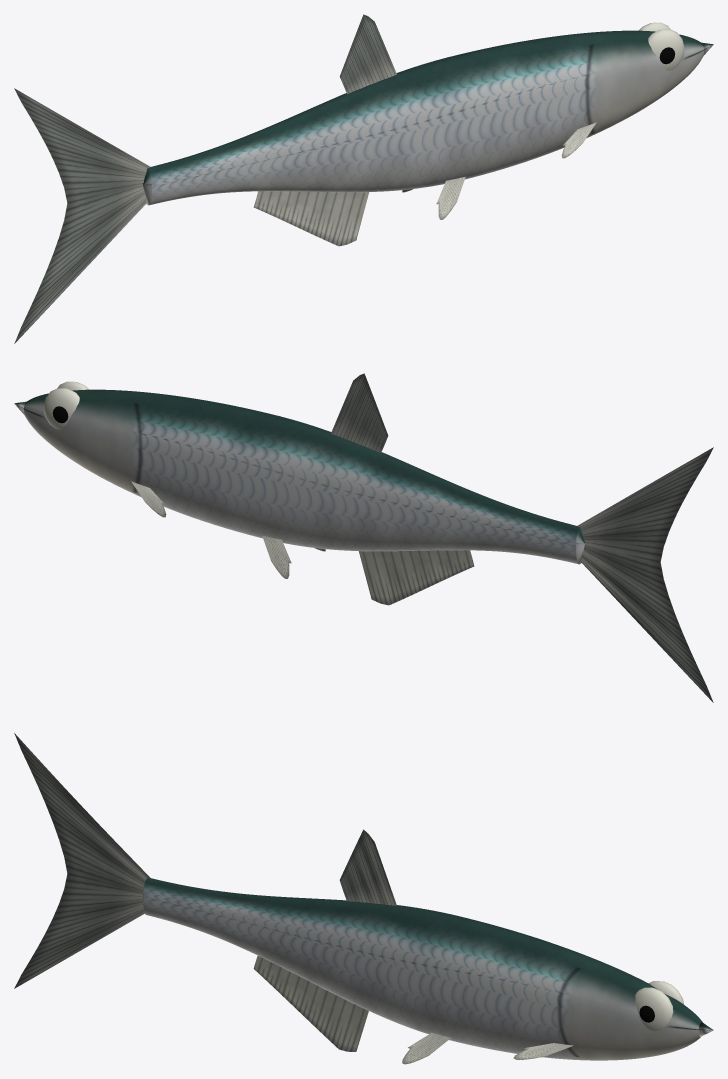
File: fish_bleak.gltf
3 views of the same model, one above another, from view 1: azimuth 30°, elevation 25°; view 2: azimuth 150°, elevation 25°; view 3: azimuth 330°, elevation 25° (orthographic).
Visible parts, largest first — view 1: fish_bleak; view 2: fish_bleak; view 3: fish_bleak.
Boxes of the visible parts, x1=… form: fish_bleak: x1=14, y1=14, x2=713, y2=343; fish_bleak: x1=14, y1=373, x2=713, y2=702; fish_bleak: x1=14, y1=733, x2=713, y2=1064.
Size of the model in its own units: 0.1507 by 0.0528 by 0.0182.
Materials: 6 (4 with a texture image).
